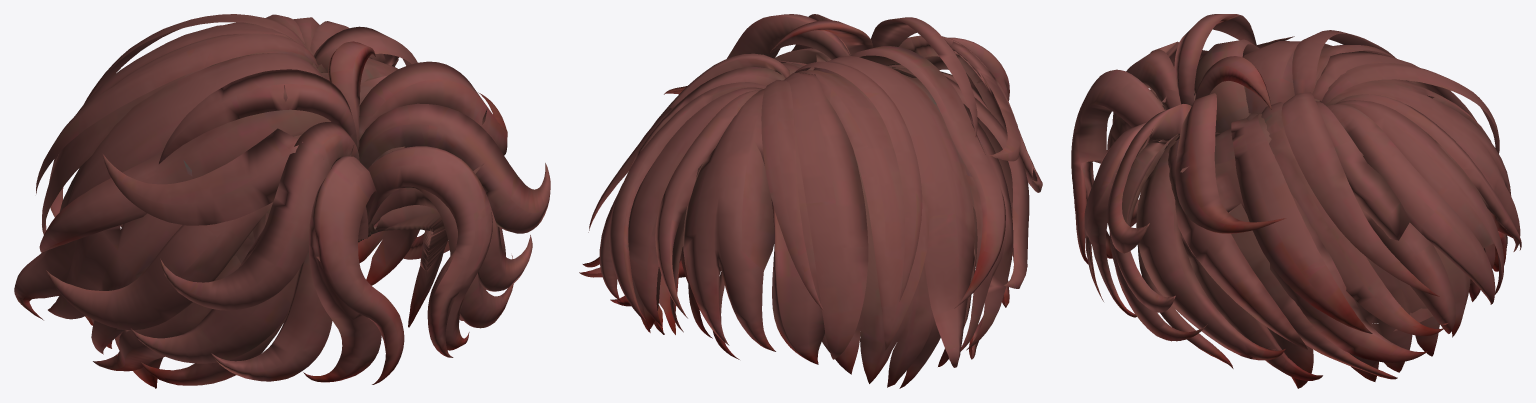
Rendered from hair_m1_wavy.glb.
3 views of the same model, side by side, from view 1: azimuth 30°, elevation 25°; view 2: azimuth 150°, elevation 25°; view 3: azimuth 270°, elevation 25° (orthographic). The views are drawn at different scales.
Visible parts, largest first — view 1: Hair_M1_wavy; view 2: Hair_M1_wavy; view 3: Hair_M1_wavy.
Boxes of the visible parts, box(x1,y1,x2,y2) form: Hair_M1_wavy: box(14, 14, 550, 388); Hair_M1_wavy: box(579, 14, 1042, 388); Hair_M1_wavy: box(1071, 14, 1521, 388).
Size of the model in its own units: 0.4699 by 0.3502 by 0.4886.
1 material, 1 textured.
